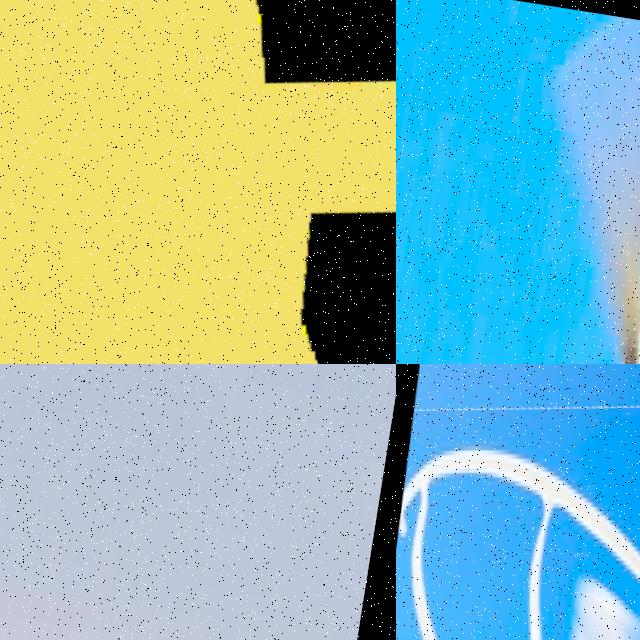drone: (0, 0, 396, 364), (396, 364, 640, 640)
